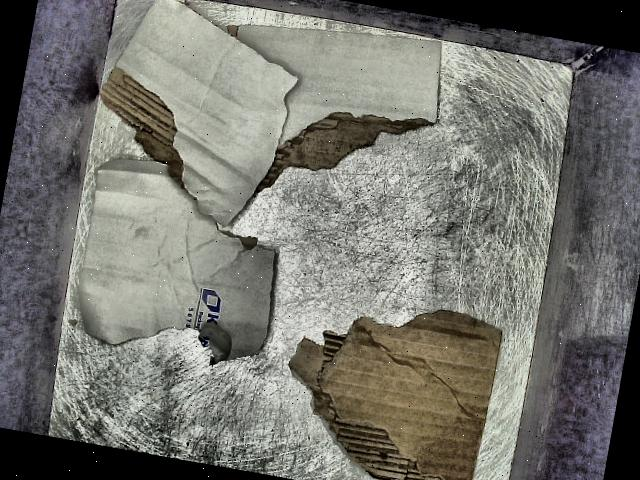Paper: (76, 0, 459, 257), (48, 143, 308, 401), (265, 276, 523, 480)
